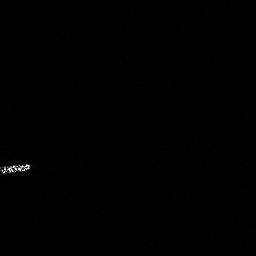ship: (1, 162, 31, 175)
